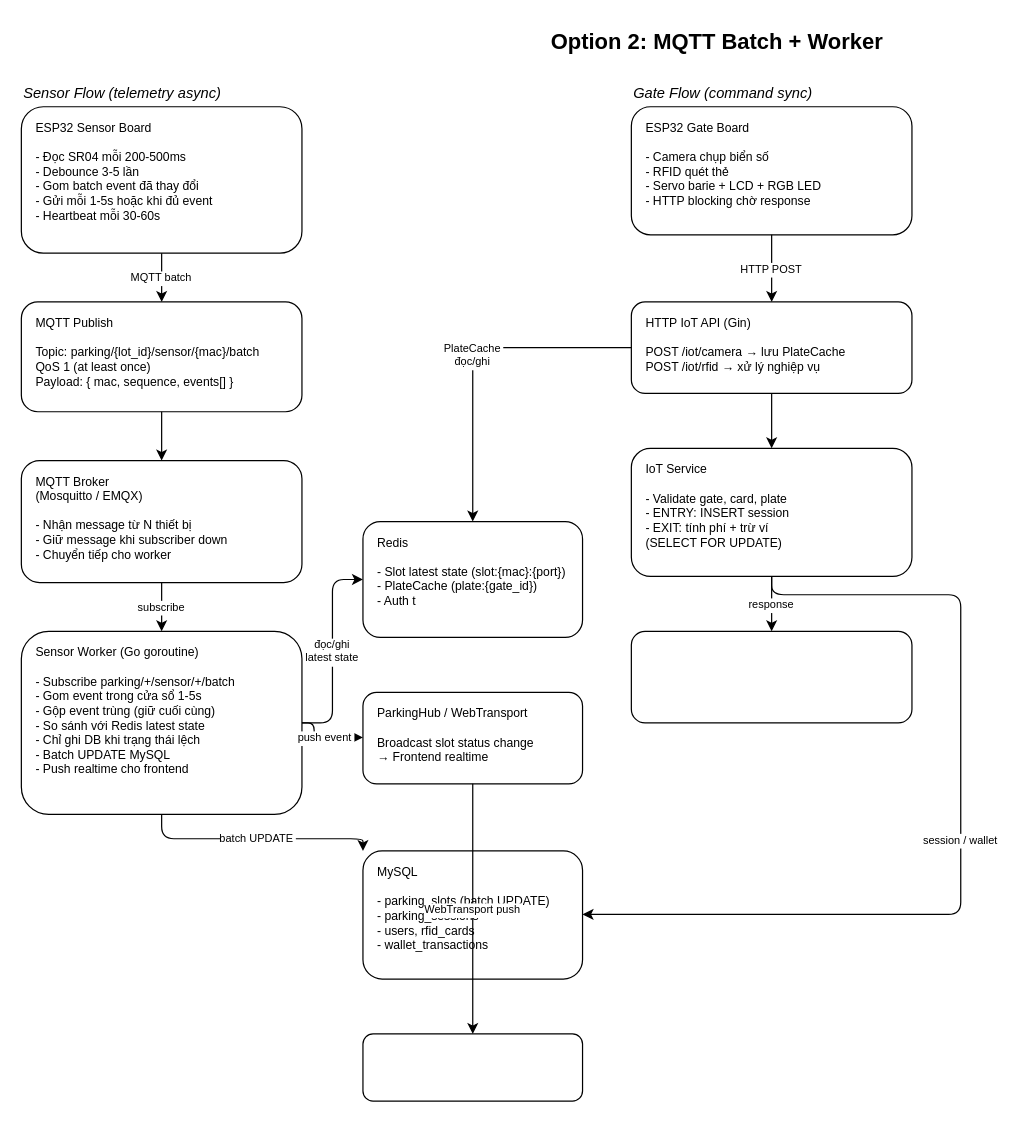
The diagram is 1021 pixels wide and 1122 high, and some of its shapes have lost their labels. Here are the shapes that lost their labels. From the top down, the centre of each, then its label:
point (771, 676): HTTP Response → ESP32 { action, lcd_line1, lcd_line2 } → mở barie / reject
point (472, 1067): Frontend (React) Sơ đồ bãi đỗ realtime
